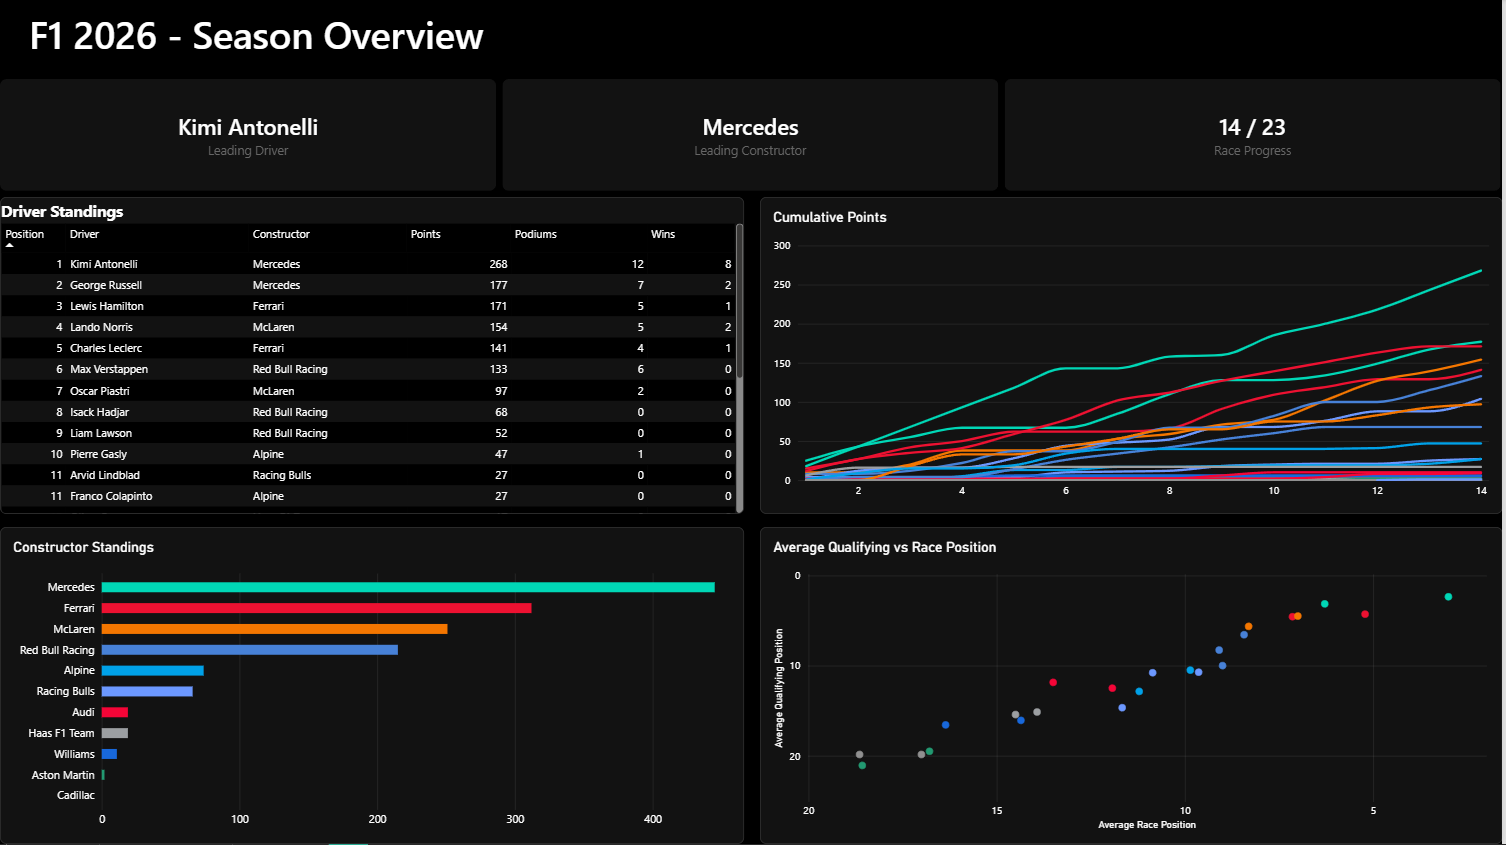

What the dashboard file says about the page in this screenshot:
{"tool":"powerbi","page":{"name":"Season Overview","canvas":[1920,1080],"ordinal":1},"visuals":[{"type":"lineChart","title":"Cumulative Points","fields":{"Category":["driver_cumulative_points.Round"],"Series":["driver_cumulative_points.Driver"],"Y":["Sum(driver_cumulative_points.CumulativePoints)"]},"box":[971.5,253.4,948.5,404.9],"z":0},{"type":"tableEx","title":"Driver Standings","fields":{"Values":["Sum(driver_standings.Position)","driver_standings.Driver","driver_standings.Constructor","driver_standings.Points","Sum(driver_standings.Podiums)","Sum(driver_standings.Wins)"]},"box":[0,253.1,951.3,404.9],"z":1000},{"type":"barChart","title":"Constructor Standings","fields":{"Category":["constructor_standings.Constructor"],"Y":["driver_cumulative_points.Total Points"]},"box":[0,674.9,951.3,404.9],"z":2000},{"type":"textbox","box":[37.2,12,876.3,83.1],"z":3000},{"type":"cardVisual","fields":{"Data":["driver_standings.Leading Driver","constructor_standings.Leading Constructor","races.Race Progress"]},"box":[0,102.8,1920,143.3],"z":4000},{"type":"scatterChart","title":"Average Qualifying vs Race Position","fields":{"Category":["driver_standings.Driver"],"Series":["driver_standings.Constructor"],"X":["driver_standings.Avg_Race_Pos"],"Y":["driver_standings.Avg_Quali_Pos"]},"box":[971,675,949,405],"z":5000}]}

Visuals, with their boxes in screenshot pixels (x1, y1, x2, y2), scaled from the page's 1920x1080 canvas onto the 1506x845 screenshot:
"Cumulative Points" lineChart: <region>762, 198, 1505, 515</region>
"Driver Standings" tableEx: <region>0, 198, 746, 515</region>
"Constructor Standings" barChart: <region>0, 528, 746, 844</region>
textbox: <region>29, 9, 717, 74</region>
cardVisual - driver_standings.Leading Driver x constructor_standings.Leading Constructor: <region>0, 80, 1505, 193</region>
"Average Qualifying vs Race Position" scatterChart: <region>762, 528, 1505, 844</region>
